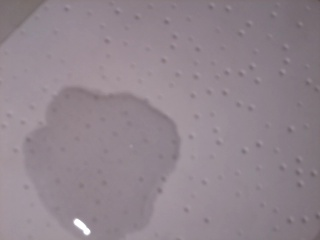Water_detected: (52, 108, 154, 210)
